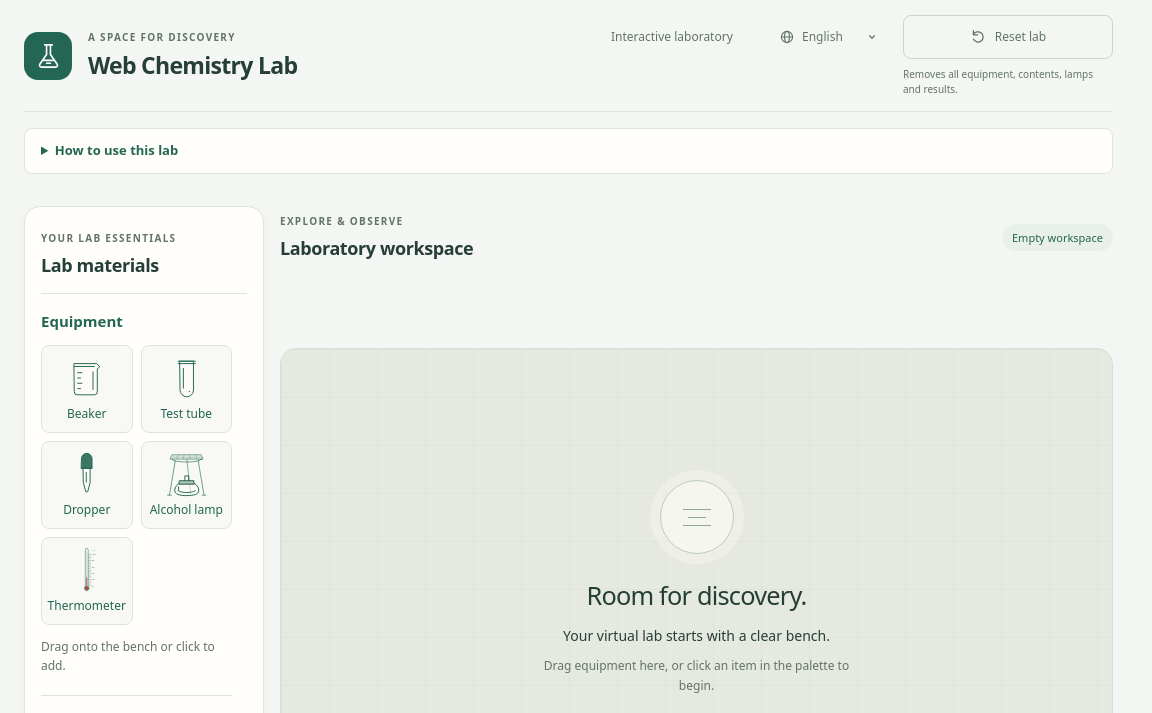
Test: M8 interrupted pointer sessions › releases an active pointer capture when the laboratory unmounts
Press the mouse on the button with aria-label "Add Beaker" at (87, 388), box [41,344,132,432]
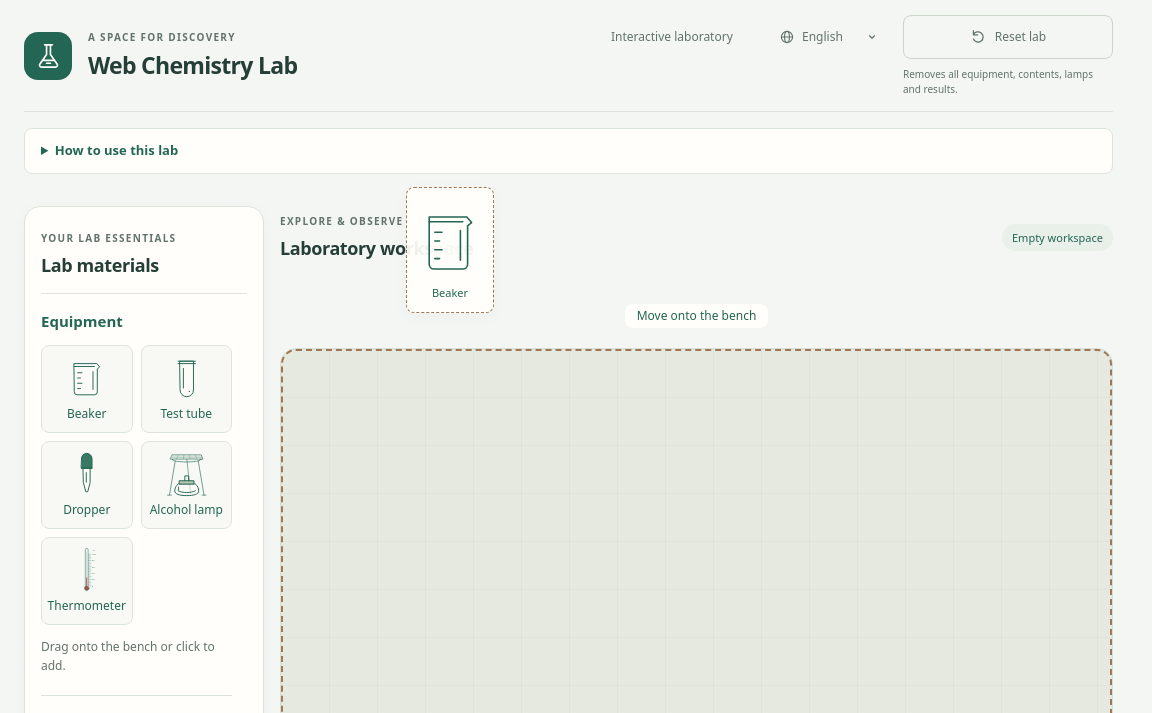
Result: the element with class "equipment-drag-preview" is shown at [406,187,494,313]
